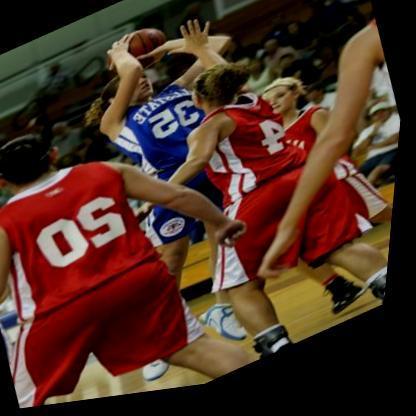basketball: (102, 23, 177, 90)
